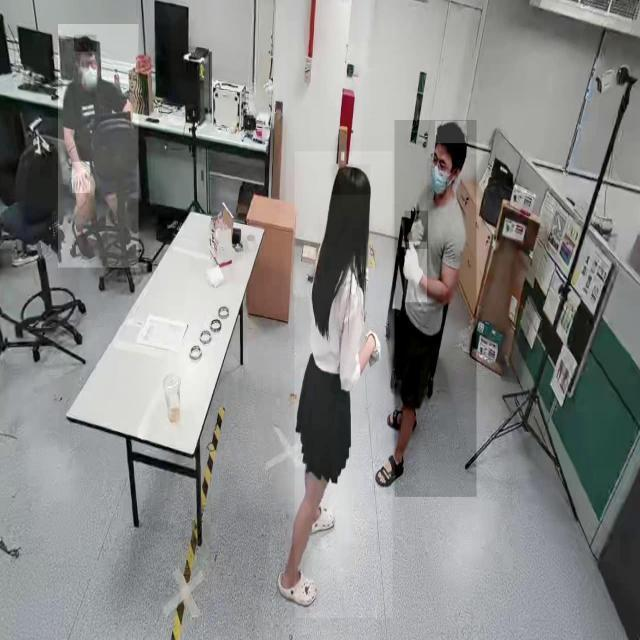gloves: (404, 242, 428, 302), (404, 211, 428, 249)
